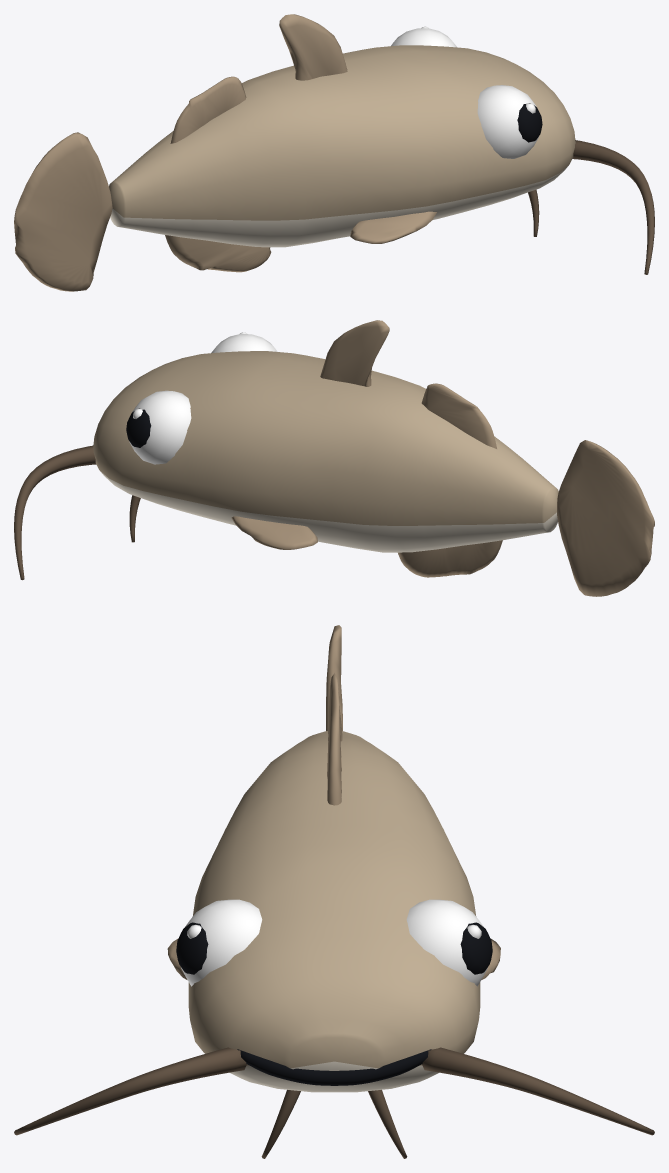
The model's file is fish_catfish.glb.
3 renders of one model, top to bottom at view 1: azimuth 30°, elevation 25°; view 2: azimuth 150°, elevation 25°; view 3: azimuth 270°, elevation 25°, orthographic. The views are drawn at different scales.
Parts seen in each view (by area): view 1: Fish, Tail, FinR; view 2: Fish, Tail, FinL; view 3: Fish, Tail.
Boxes of the visible parts, bbox=[...] form: Fish: bbox=[109, 14, 654, 274]; Tail: bbox=[14, 132, 112, 291]; FinR: bbox=[350, 211, 436, 243]; Fish: bbox=[14, 320, 558, 580]; Tail: bbox=[557, 440, 654, 596]; FinL: bbox=[231, 516, 317, 549]; Fish: bbox=[14, 673, 654, 1158]; Tail: bbox=[326, 625, 342, 730].
Size of the model in its own units: 1.92 by 0.8515 by 1.45.
